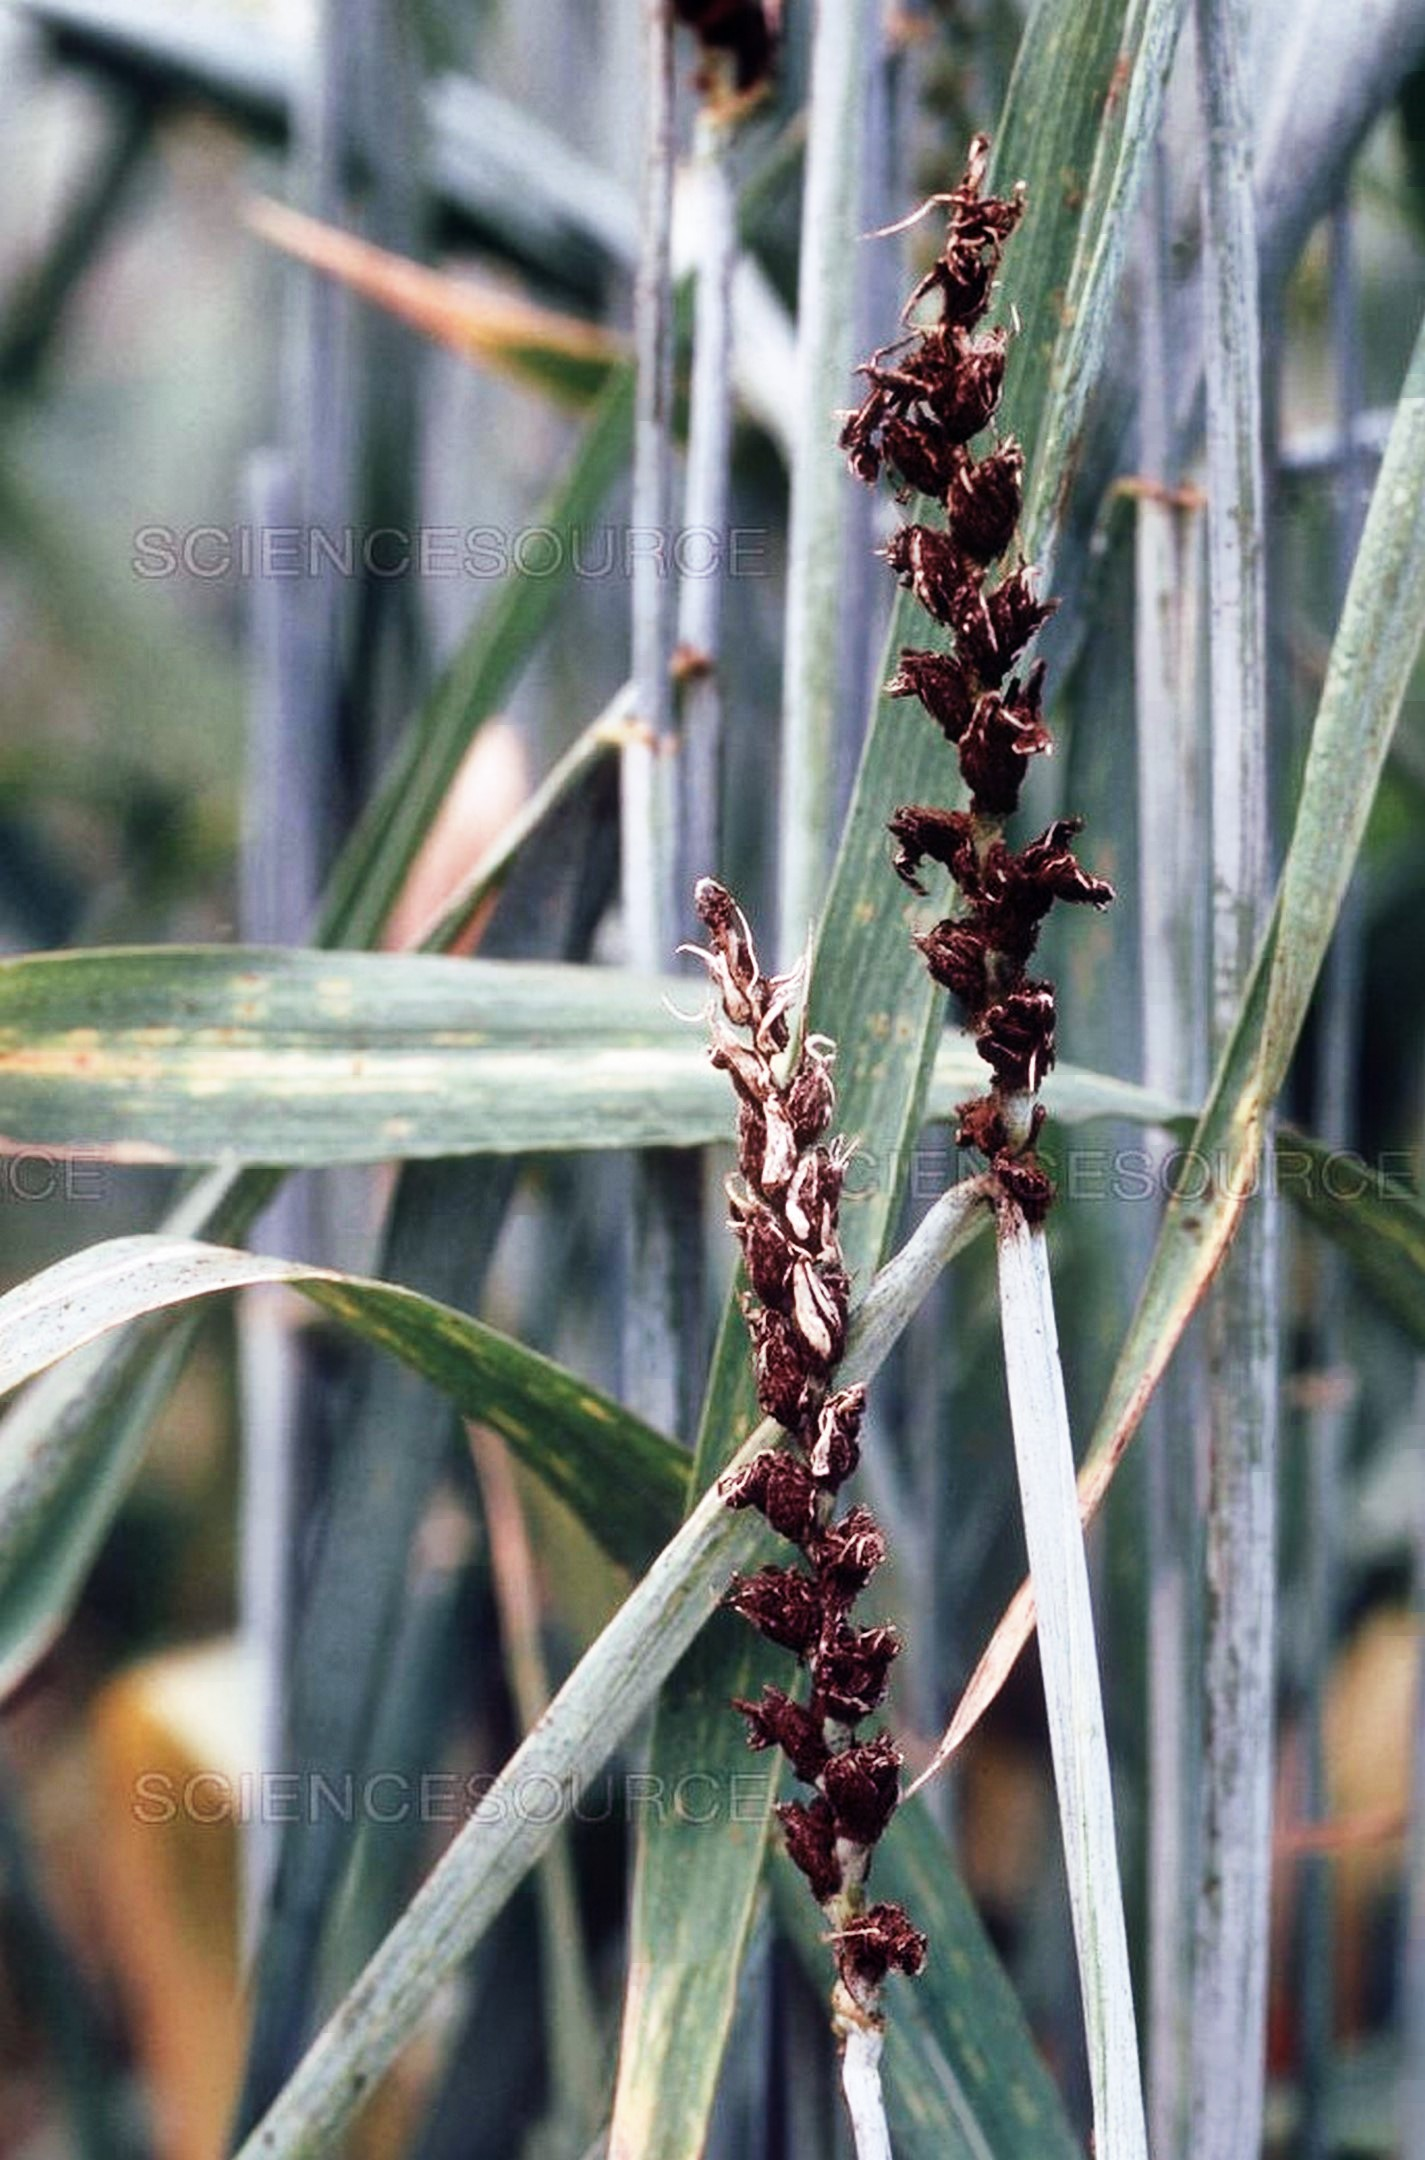Wheat Loose Smut: (841, 169, 1134, 1156), (654, 1005, 937, 1988)
